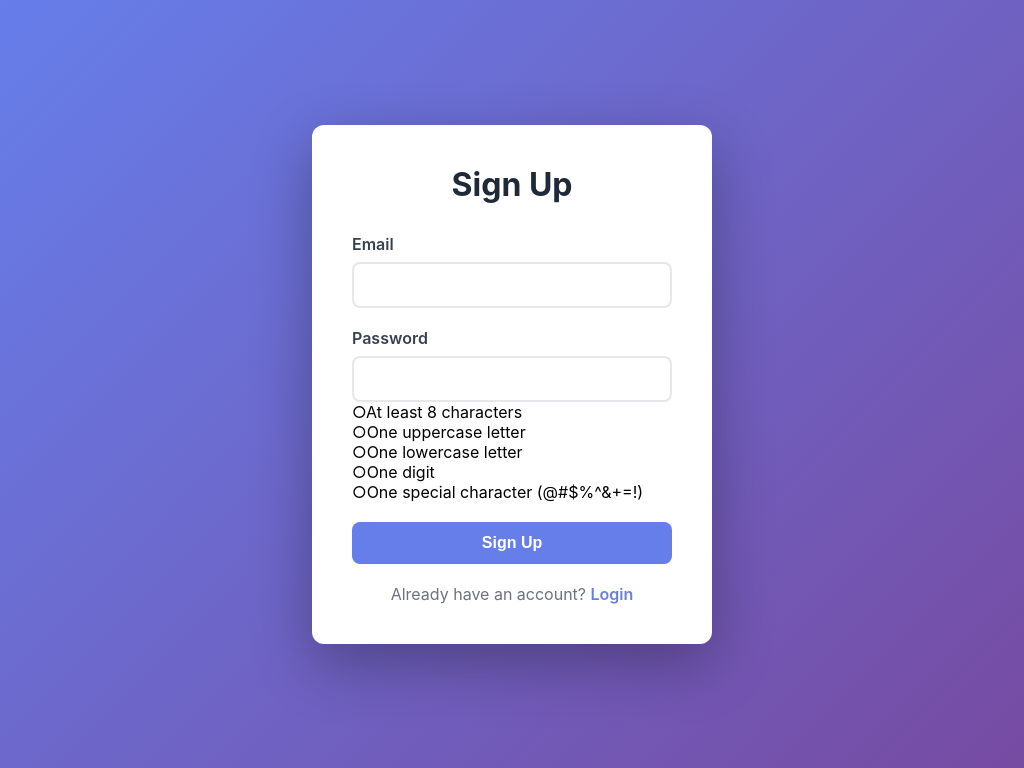
Test: Signup Component › shows error for duplicate email
Type "existing@example.com" into the field at [512, 284], box [352,262,672,308]
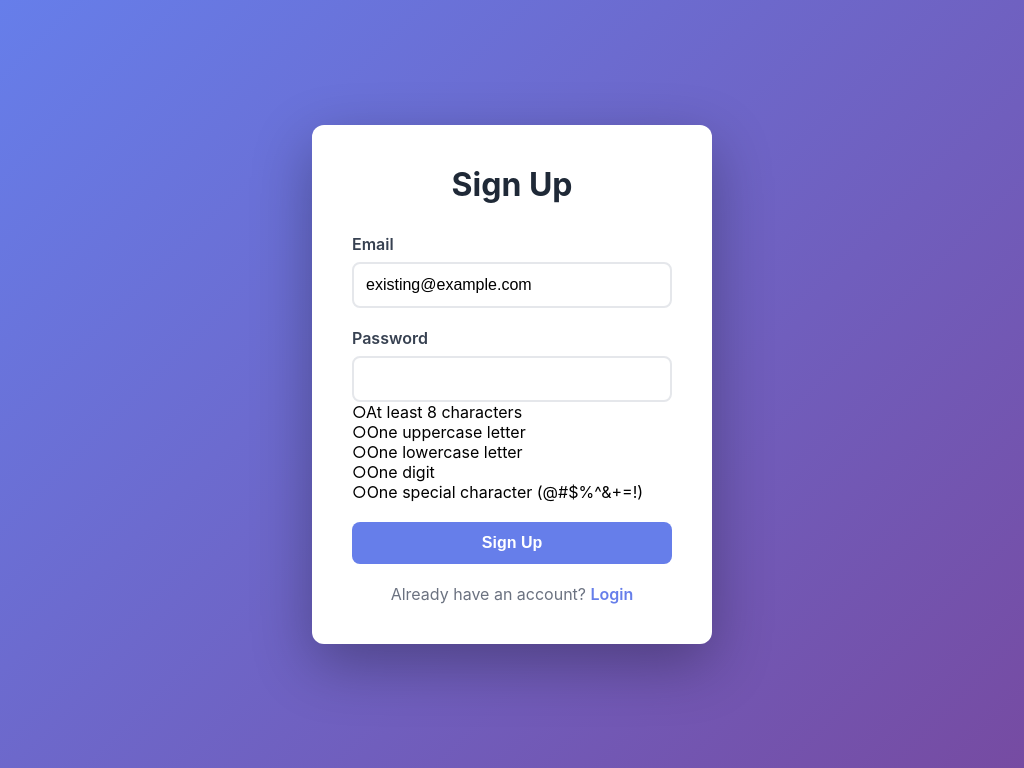
Type "Test123!@#" into the password field at [512, 378], box [352,356,672,402]
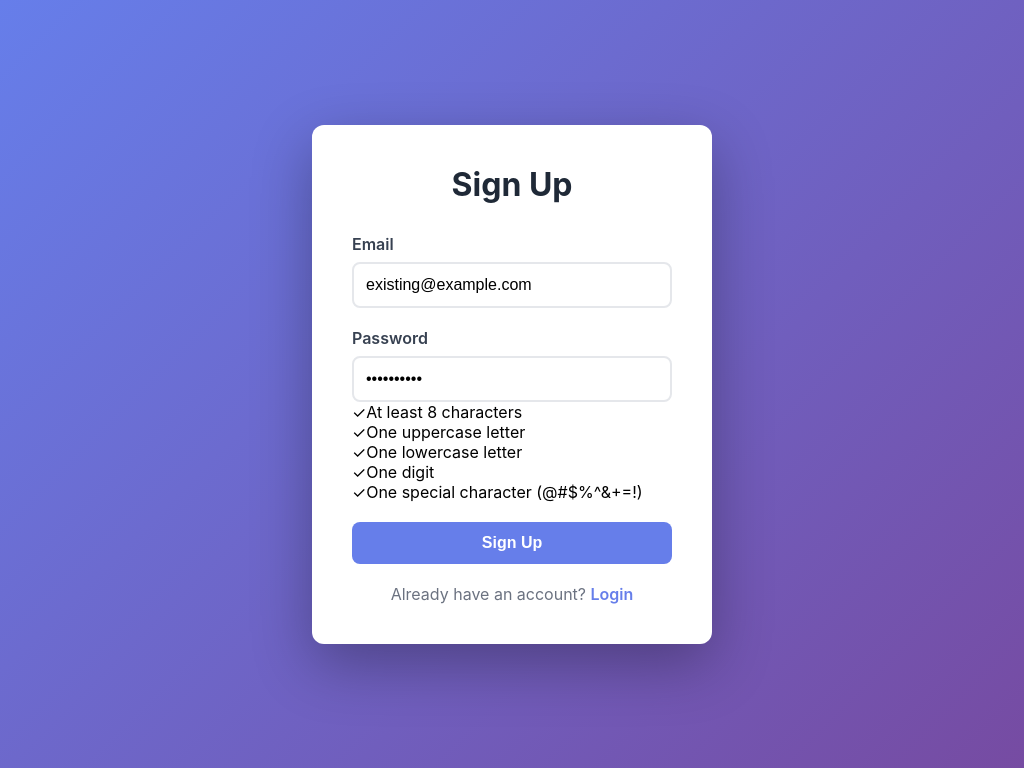
Click the button "Sign Up" at [512, 542], box [352,522,672,564]
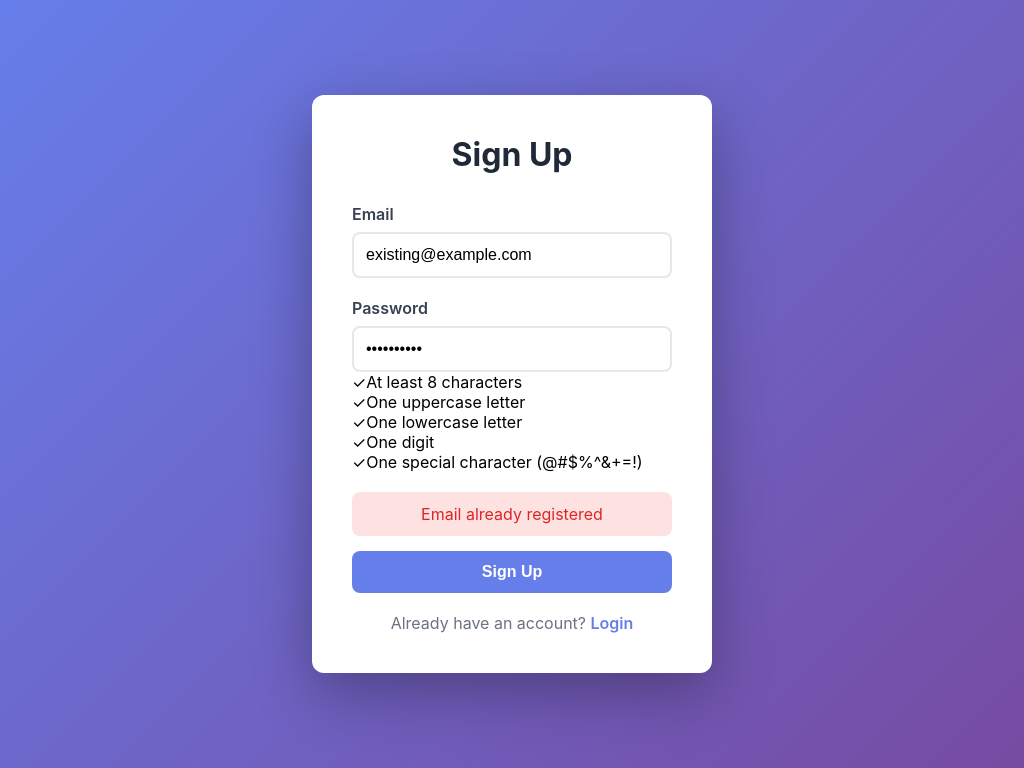
expect the text "Email already registered" is shown: met, box [352,492,672,536]
